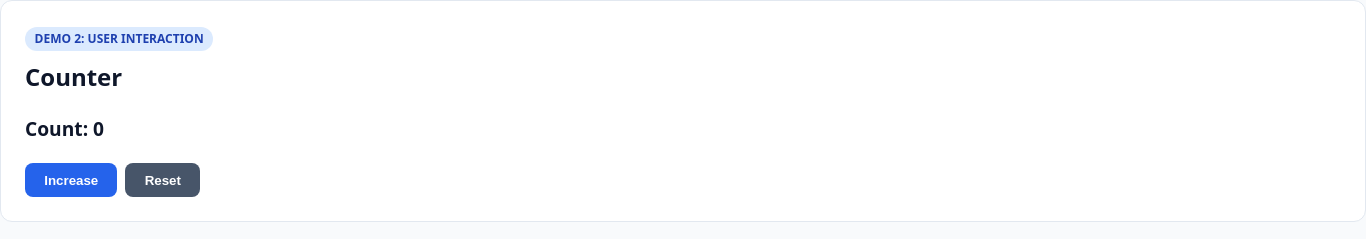
Counter › increments when the button is clicked
The image size is (1366, 239).
Click the button "Increase" at (71, 180), box [25,163,118,197]
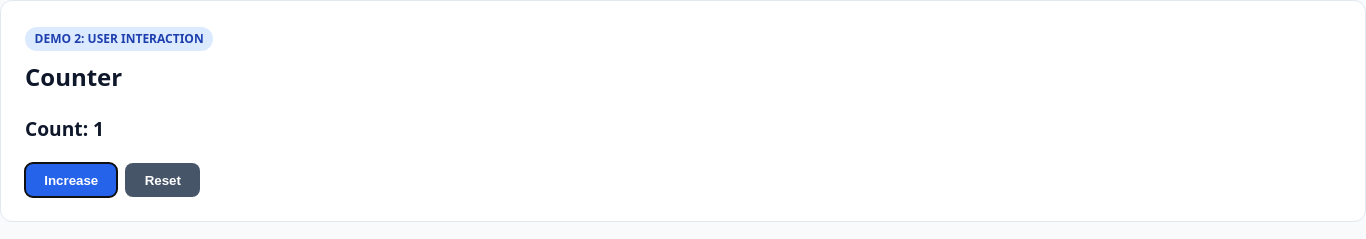
expect the text "Count: 1" is shown: met, box [25,115,104,142]
